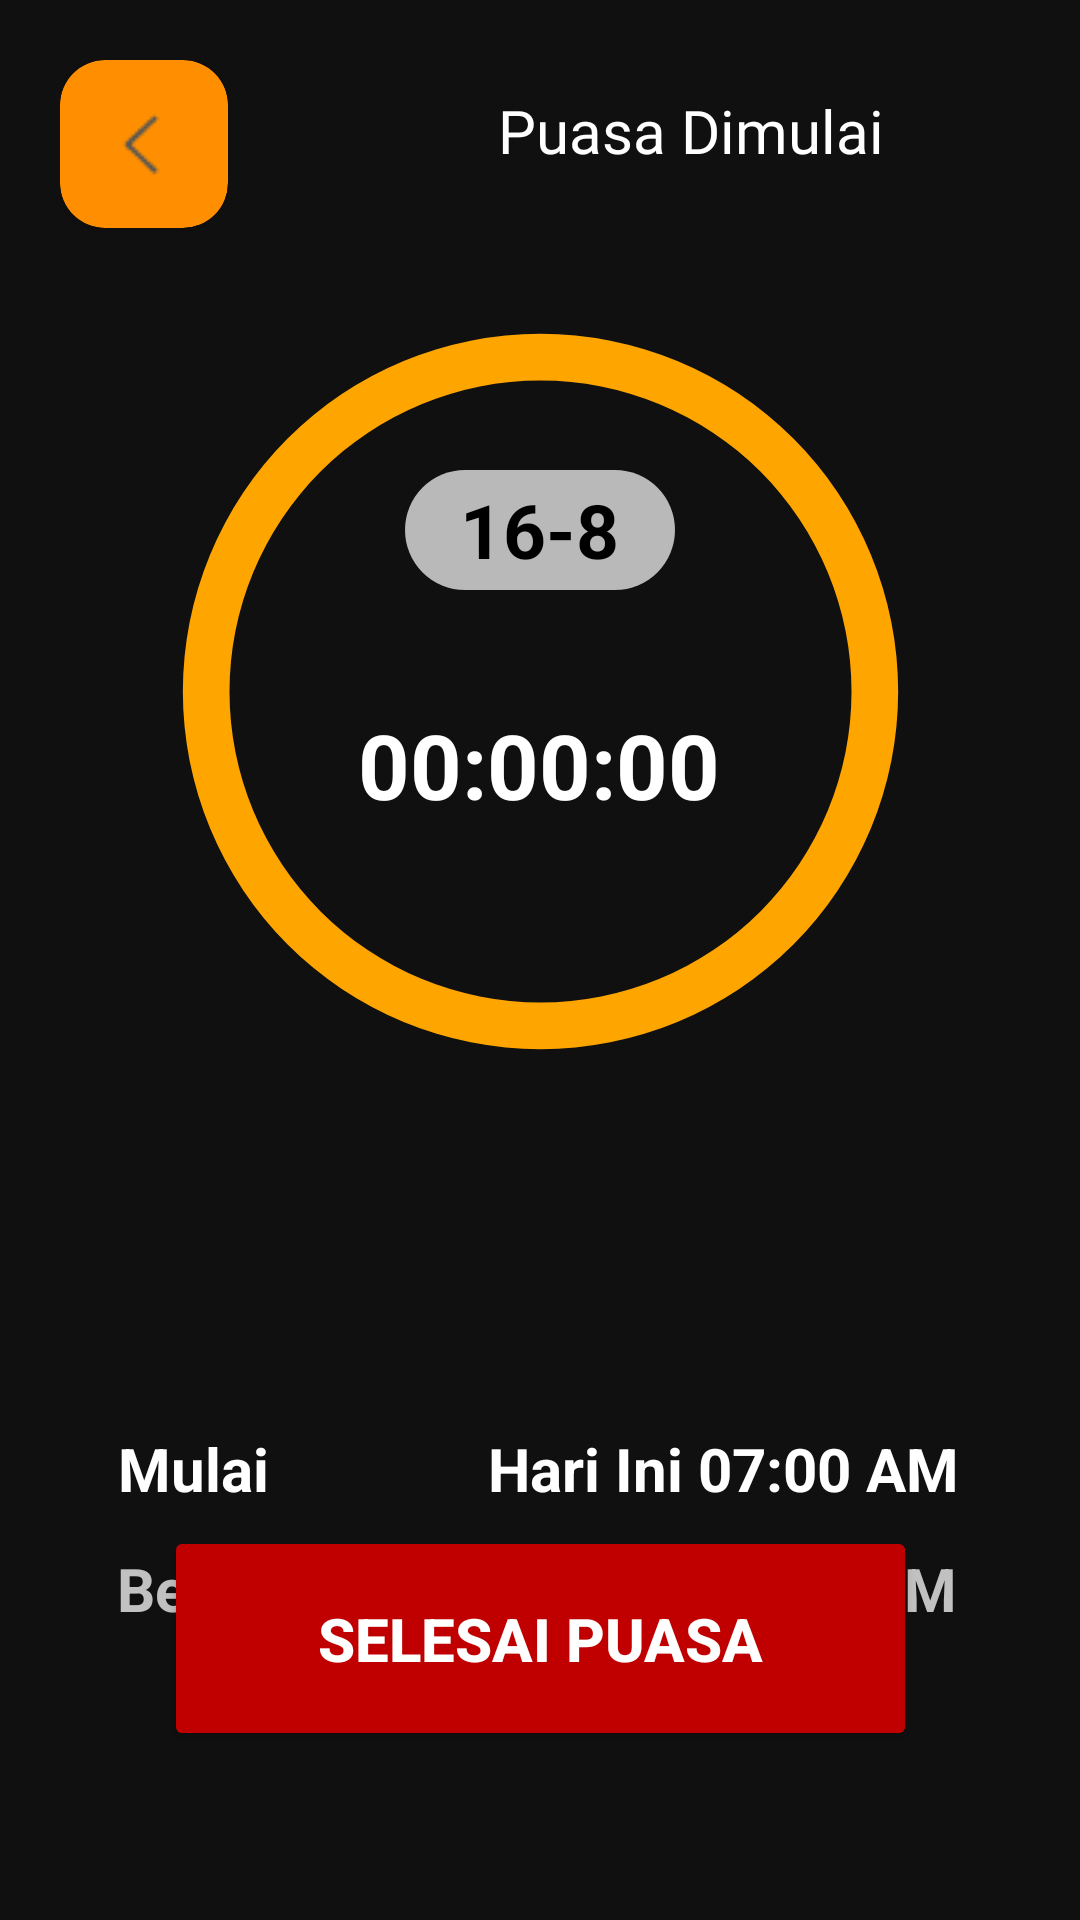

Icons on this 1080×1920 Android screen, each with its box as rect(x1, y1, x2, y2):
back arrow: rect(60, 60, 228, 228)
